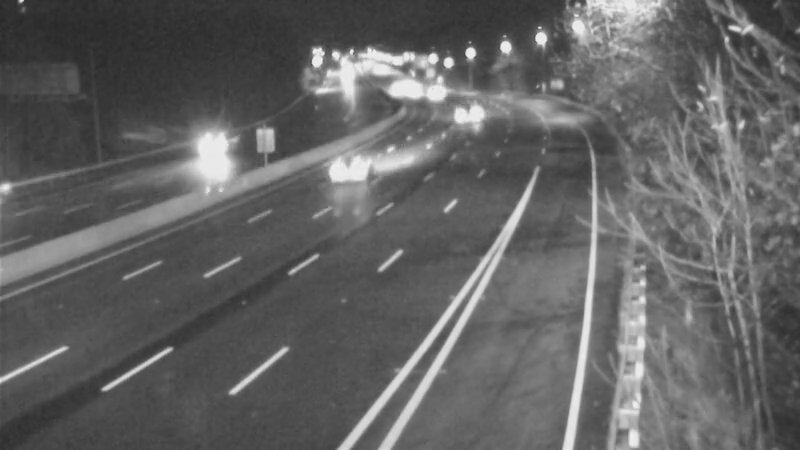vehicle: (307, 129, 387, 209), (410, 67, 460, 117), (440, 91, 490, 141), (188, 123, 238, 173)
